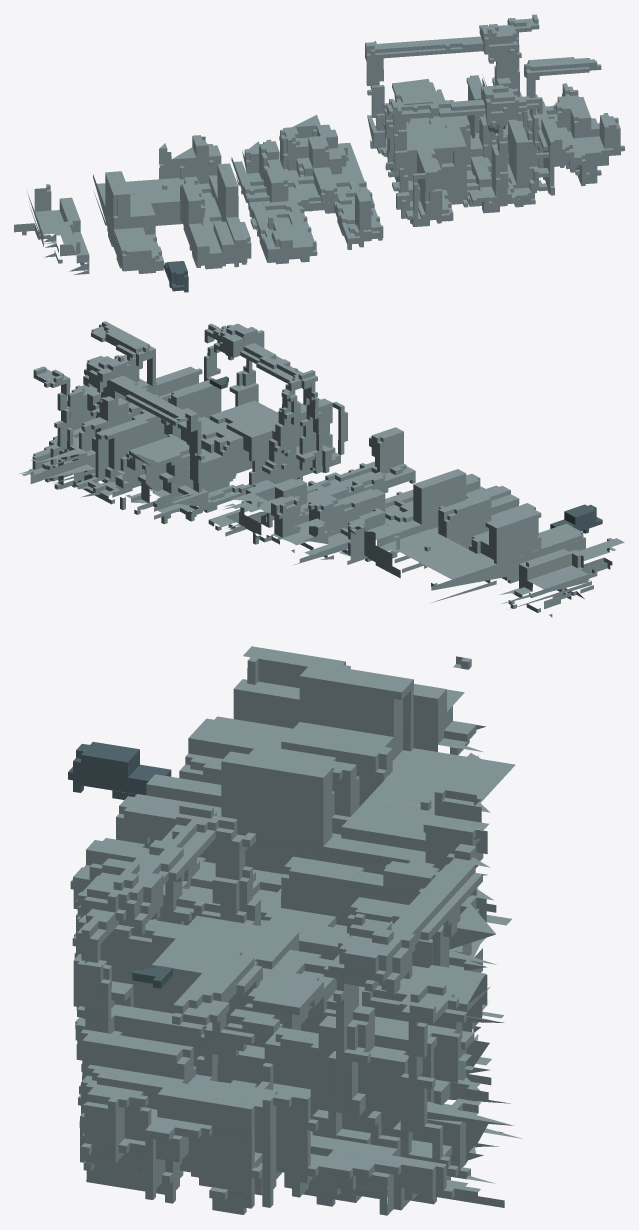
The picture shows the model from 3 angles, top to bottom: view 1: azimuth 30°, elevation 25°; view 2: azimuth 150°, elevation 25°; view 3: azimuth 270°, elevation 25°; orthographic projection. The views are drawn at different scales.
Parts seen in each view (by area): view 1: measured-industrial; view 2: measured-industrial; view 3: measured-industrial.
Part boxes in pixels (x1,y1,x2,y2): measured-industrial: [14, 14, 624, 292]; measured-industrial: [18, 321, 624, 617]; measured-industrial: [68, 646, 521, 1215].
Bounding box in the file's own units: 143 × 32.11 × 59.75.
